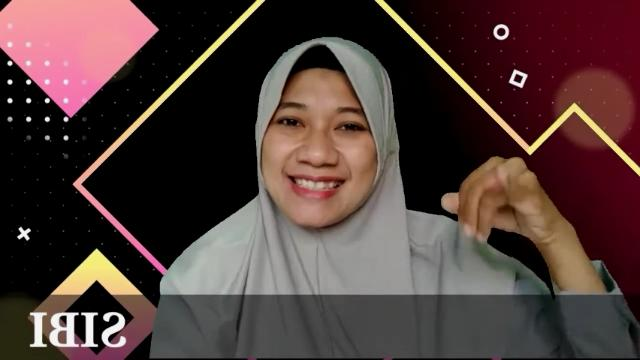J: (442, 153, 554, 246)
